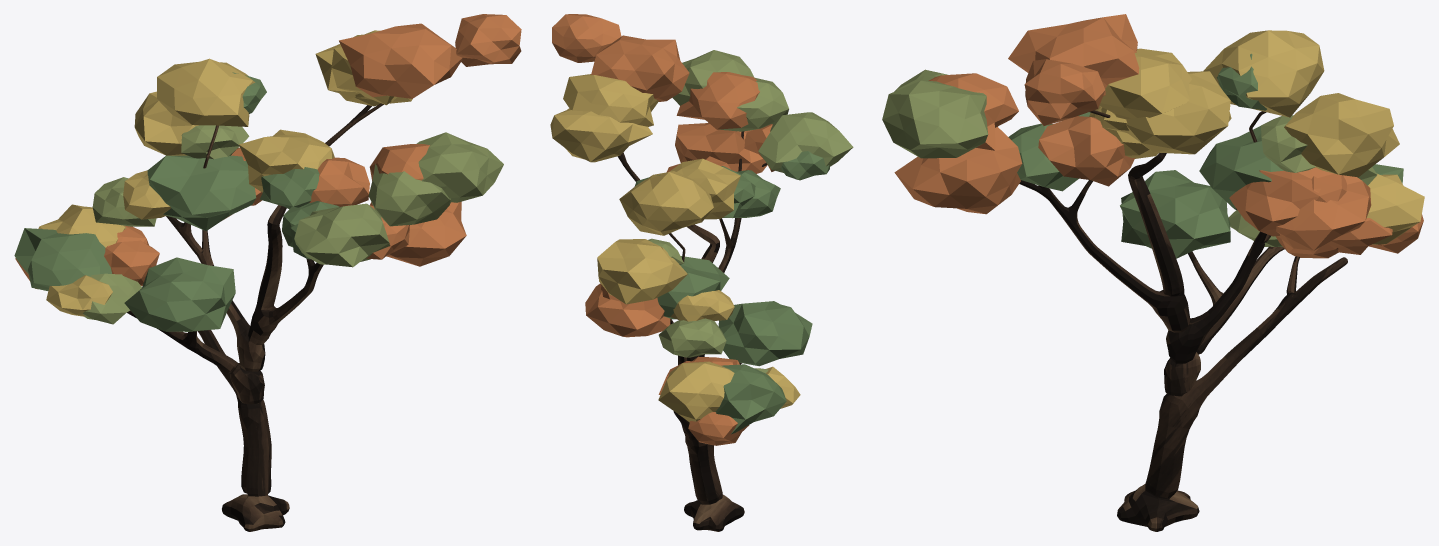
Rendered from tree_dying_3.glb.
The picture shows the model from 3 angles, left to right: view 1: azimuth 30°, elevation 25°; view 2: azimuth 150°, elevation 25°; view 3: azimuth 270°, elevation 25°; orthographic projection. The views are drawn at different scales.
Visible parts, largest first — view 1: tree_dying_37; view 2: tree_dying_37; view 3: tree_dying_37.
Boxes of the visible parts, x1=… form: tree_dying_37: x1=14, y1=14, x2=521, y2=531; tree_dying_37: x1=550, y1=14, x2=853, y2=531; tree_dying_37: x1=882, y1=14, x2=1424, y2=531.
Bounding box in the file's own units: 7.89 × 9.99 × 8.76.
Materials: 5 (1 with a texture image).
